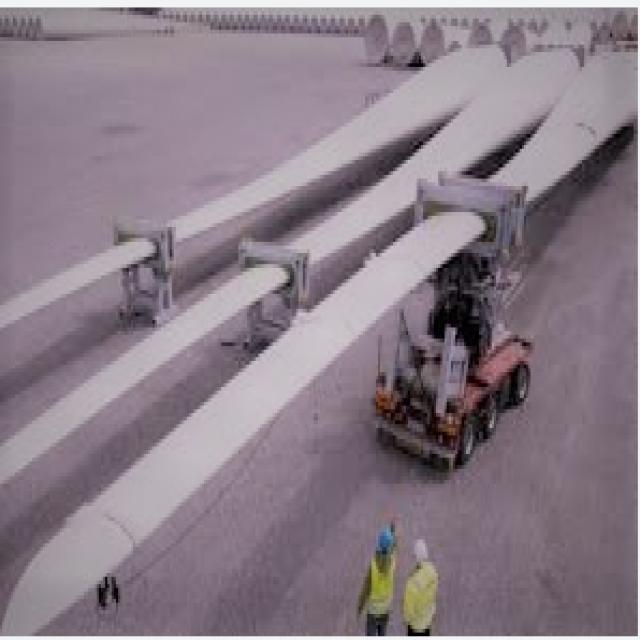hard_hat: (376, 526, 396, 558), (412, 536, 430, 566)
vest: (403, 563, 439, 630), (366, 550, 396, 618)
